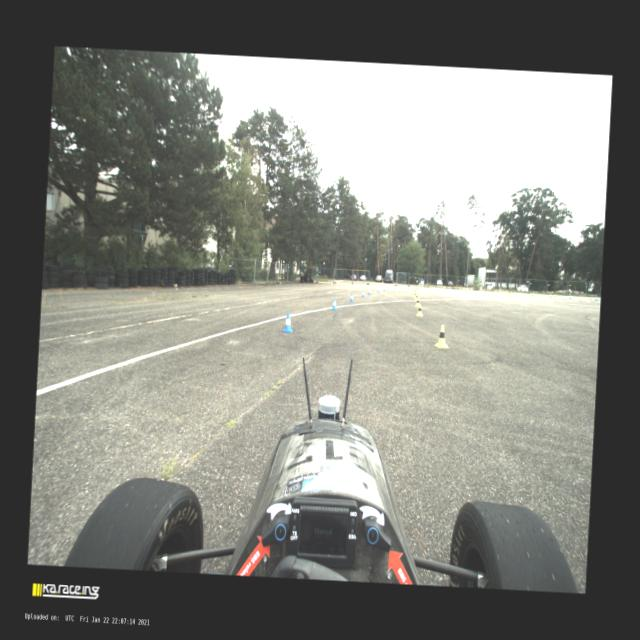blue_cone: (283, 312, 294, 333), (332, 299, 338, 310), (350, 293, 354, 302), (362, 290, 366, 298), (368, 289, 372, 295), (569, 294, 572, 300), (595, 296, 598, 302), (384, 286, 386, 292), (549, 294, 552, 298), (378, 288, 380, 293), (390, 286, 392, 290), (394, 286, 396, 290), (402, 286, 404, 290), (434, 286, 436, 290), (470, 288, 472, 292), (494, 290, 496, 294), (514, 291, 516, 295), (449, 288, 452, 290)
yellow_cone: (434, 326, 450, 348), (416, 304, 424, 316), (416, 298, 420, 306), (531, 292, 534, 298), (415, 294, 417, 300), (414, 292, 416, 298), (509, 292, 512, 296), (554, 294, 556, 300), (428, 286, 430, 290), (466, 288, 468, 292), (416, 287, 418, 290), (492, 291, 494, 294), (414, 290, 416, 292), (418, 286, 419, 290), (444, 288, 446, 290)
